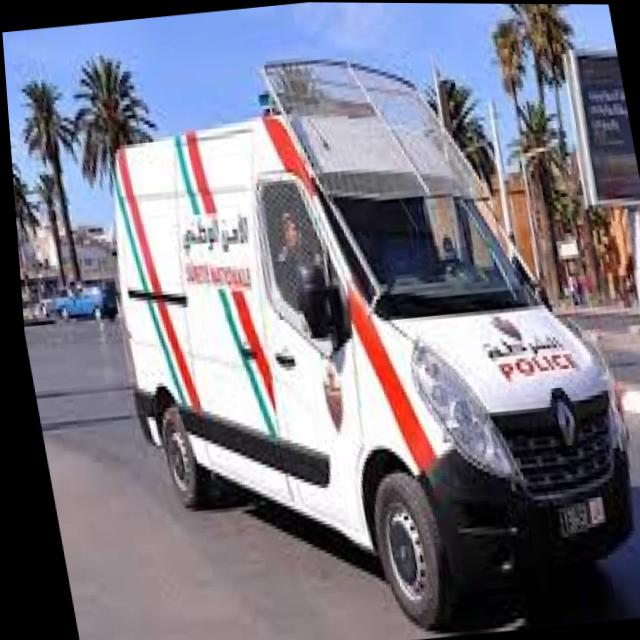Police car: (66, 13, 640, 640)
